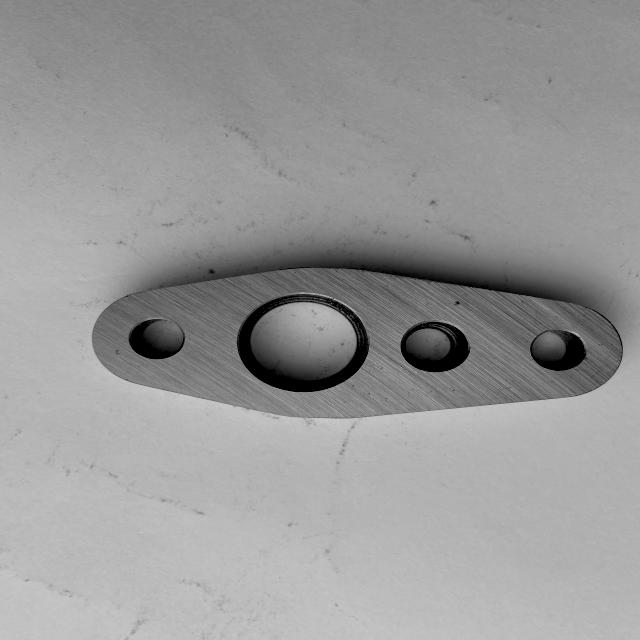chap: (350, 384, 356, 388)
lines: (442, 298, 460, 310), (111, 348, 121, 356)
